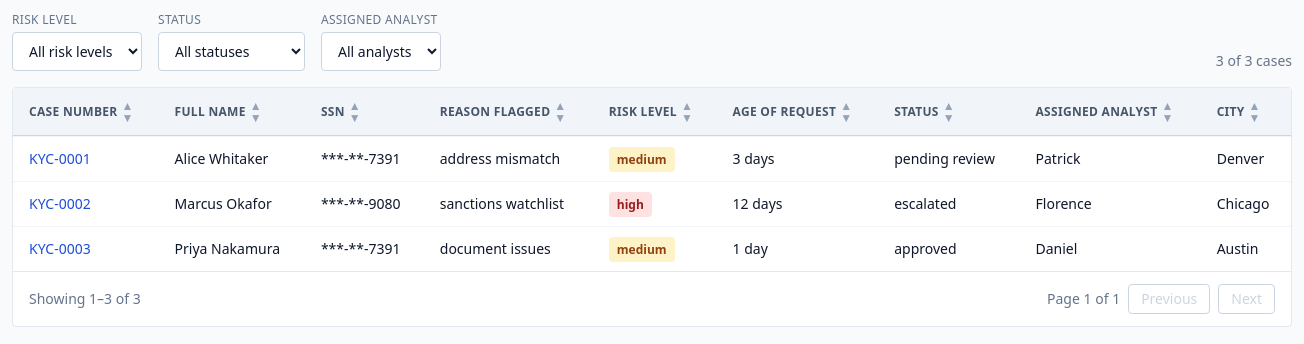
CaseQueue › filters by status
Select "approved" in the dropdown labelled "Status" at (232, 52), box [158, 32, 305, 71]
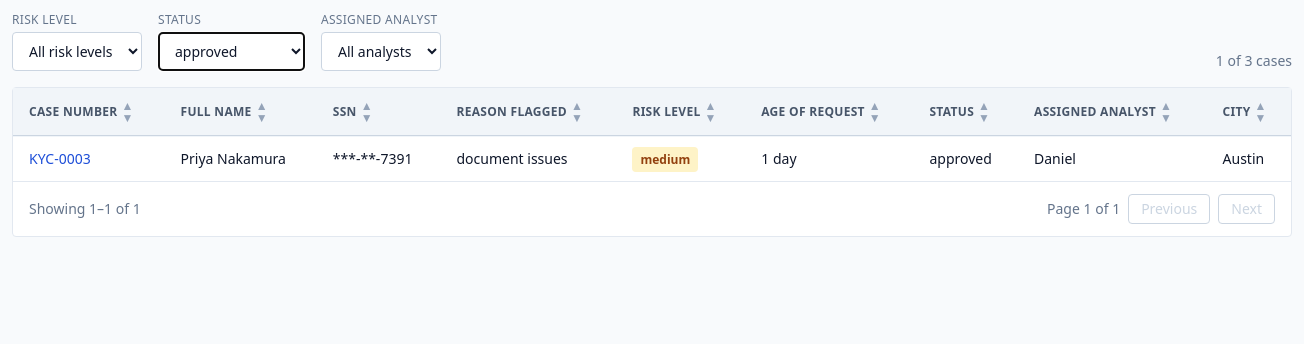
Expected: the link "KYC-0003" is shown, [29, 149, 91, 168]
Result: the link "KYC-0002" is gone
